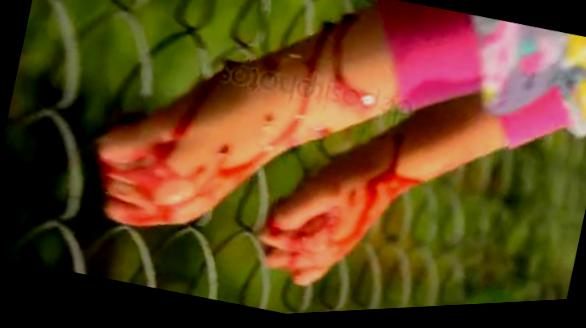Fire: (97, 19, 375, 228), (258, 139, 421, 289)
